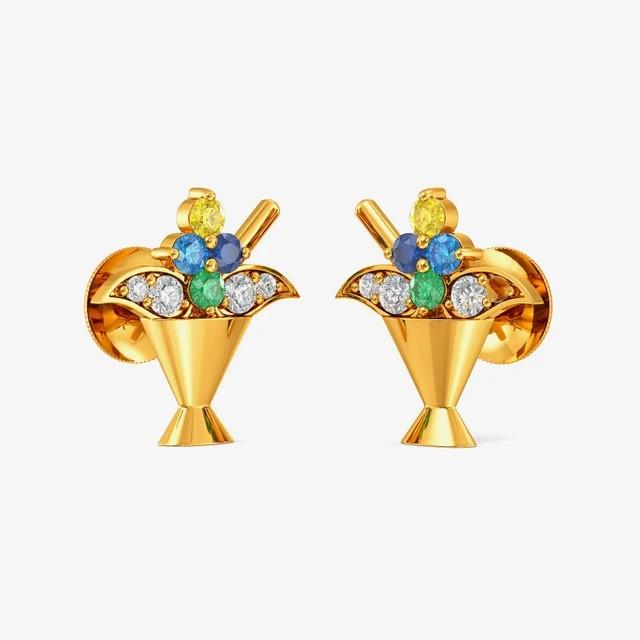missing gem: (486, 277, 509, 302)
